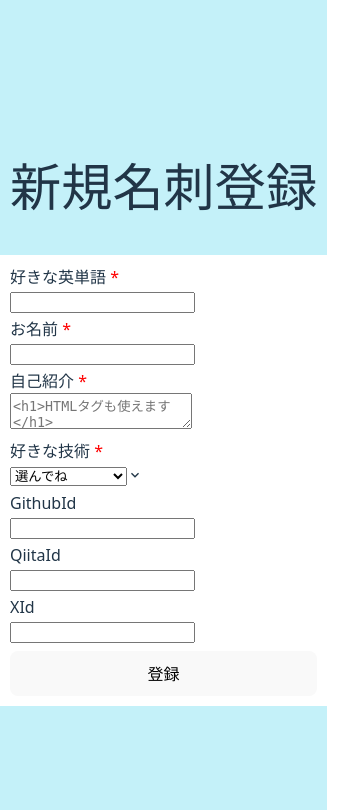
Test: RegistCard › 名前が未入力の状態で登録ボタンを押すとエラーメッセージが表示されること
# 名前フィールド以外を入力
In the field with test id "id": x=102, y=302 [10, 292, 195, 313], type "app"
In the text box with test id "description": x=101, y=411 [10, 393, 192, 429], type "<p>テストユーザーの説明</p>"
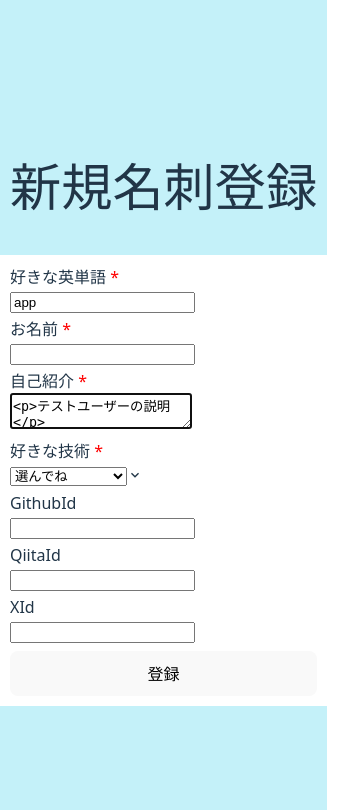
Select "React" in the dropdown with test id "favorite_technique_id": x=68, y=476 [10, 467, 127, 486]
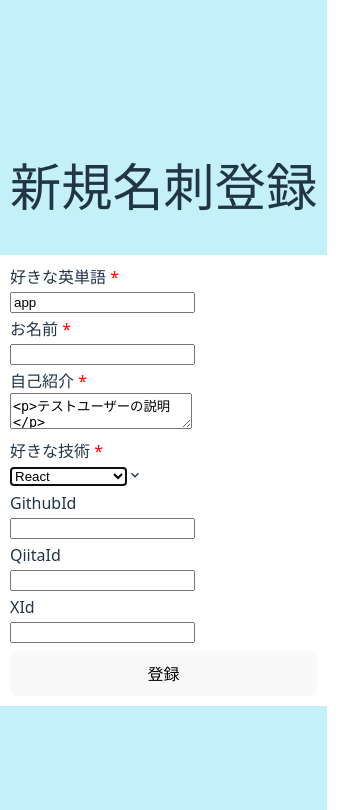
In the field with test id "github_id": x=102, y=528 [10, 518, 195, 539], type "testuser"
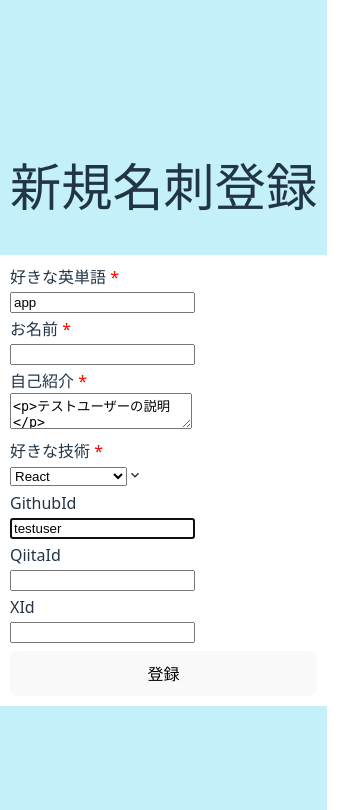
In the field with test id "qiita_id": x=102, y=580 [10, 570, 195, 591], type "testuser"
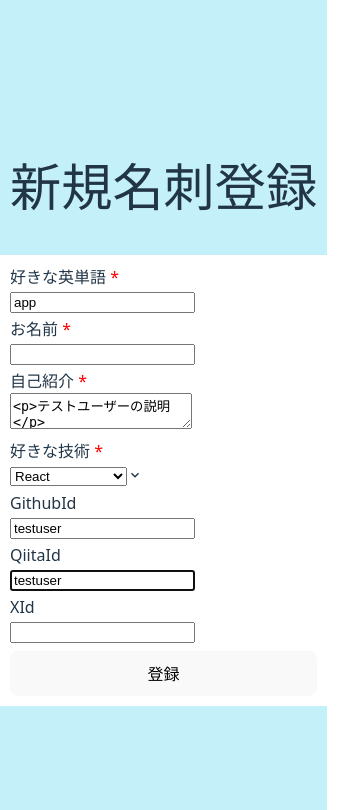
In the field with test id "x_id": x=102, y=632 [10, 622, 195, 643], type "testuser"
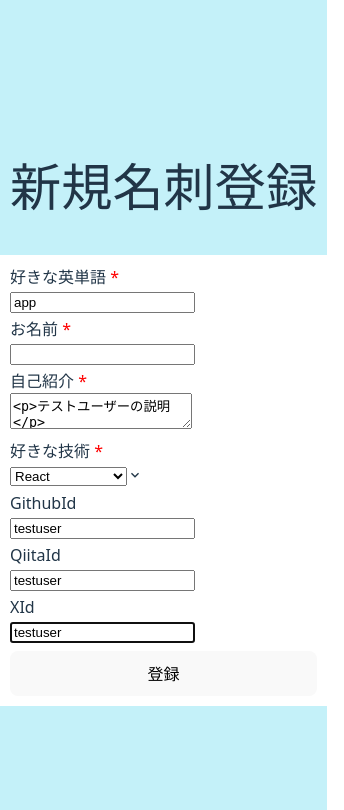
# 登録ボタンをクリック
Click the button with test id "submit-button": x=164, y=674 [10, 651, 317, 696]
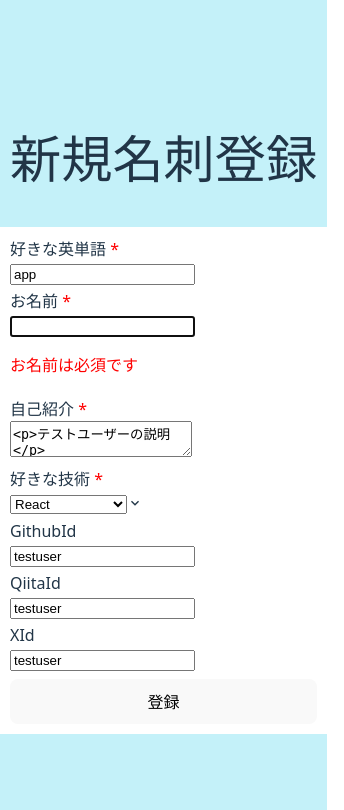
Expected: the text "お名前は必須です" is shown, [10, 354, 138, 376]
